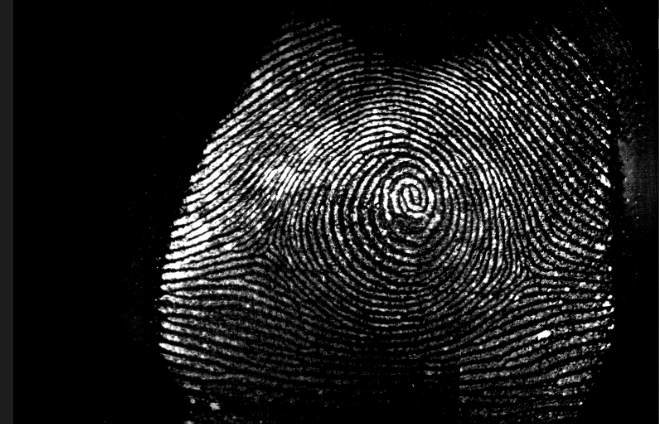nucelo: (395, 181, 427, 214)
verticilo: (510, 254, 544, 284), (257, 233, 281, 261)
